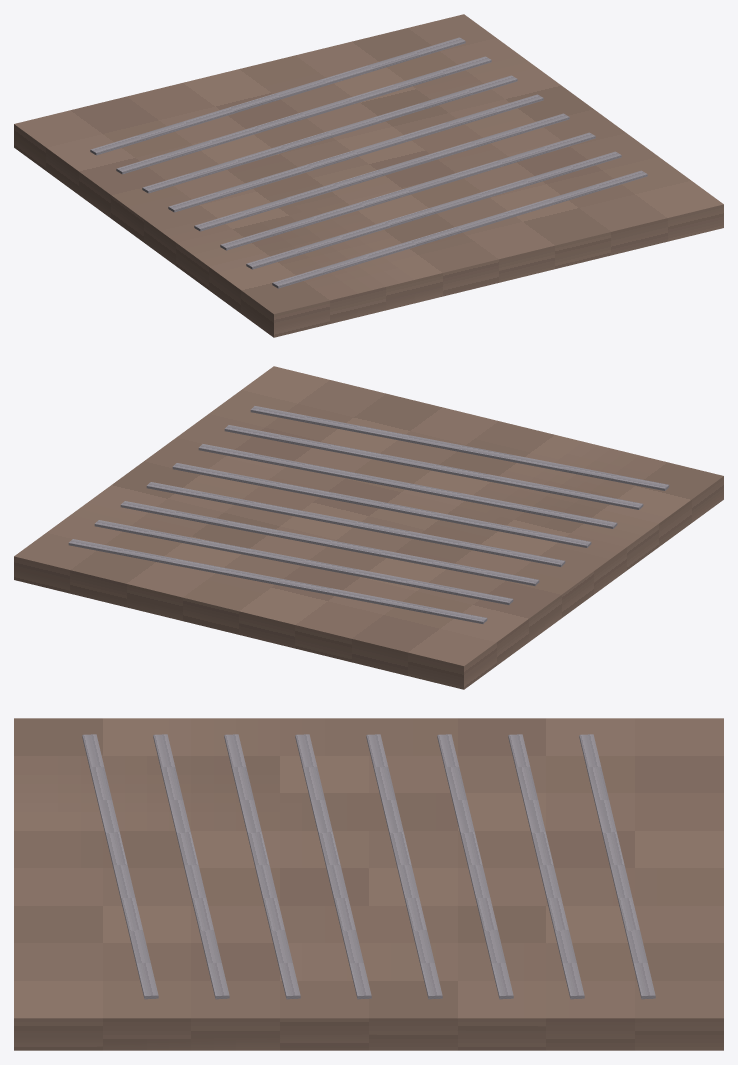
Rendered from cave-and-crystal-networks-mud-floor-tile-b80d16f6.glb.
3 renders of one model, top to bottom at view 1: azimuth 30°, elevation 25°; view 2: azimuth 150°, elevation 25°; view 3: azimuth 270°, elevation 25°, orthographic. The views are drawn at different scales.
Visible parts, largest first — view 1: mud-floor-tile; view 2: mud-floor-tile; view 3: mud-floor-tile.
Boxes of the visible parts, x1,y1,x2,y2 form: mud-floor-tile: (14,14,723,337); mud-floor-tile: (14,366,723,689); mud-floor-tile: (14,718,723,1050).
Size of the model in its own units: 4 by 0.2201 by 4.
2 materials, 2 textured.
